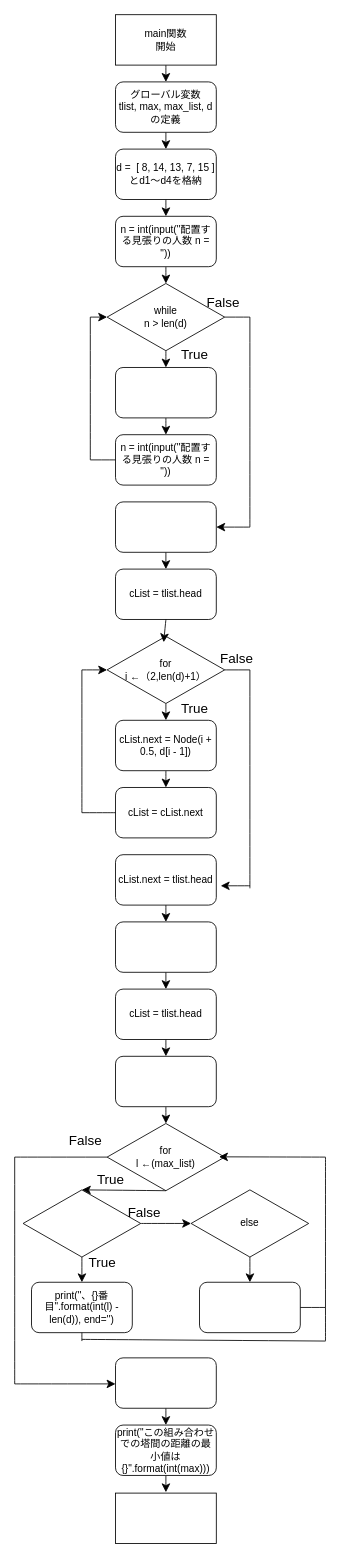
Image size: 341x1558. Some labels were removed from this diagram. The centre of each missing label's shape, as x and y in pixels:
if l > len(d): point 81,1223
linear_search(n): point 165,946
print("、{}番目".format(int(l)), end=''): point 249,1307
print("見張りを配置する塔は", end=''): point 165,1081
print("配置する見張りの人数が塔の数よりも多いです。"): point 165,392
print(): point 165,1382
tlist = Link(Node(1.5, d[0])): point 165,526
終了: point 165,1518
